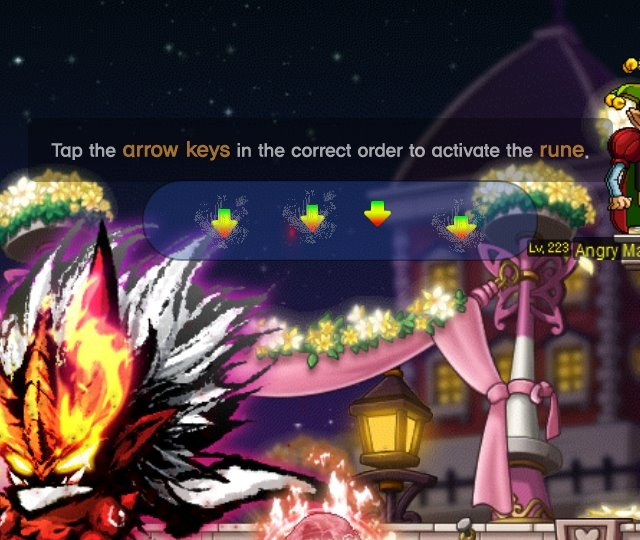rune_box: (132, 168, 549, 271)
